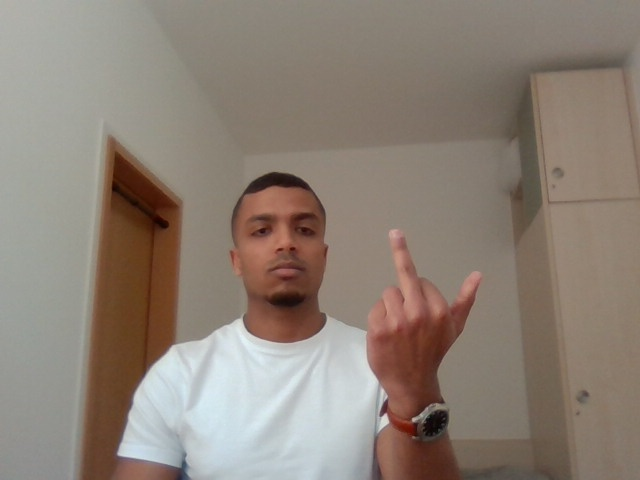fuckyou: (346, 214, 505, 406)
